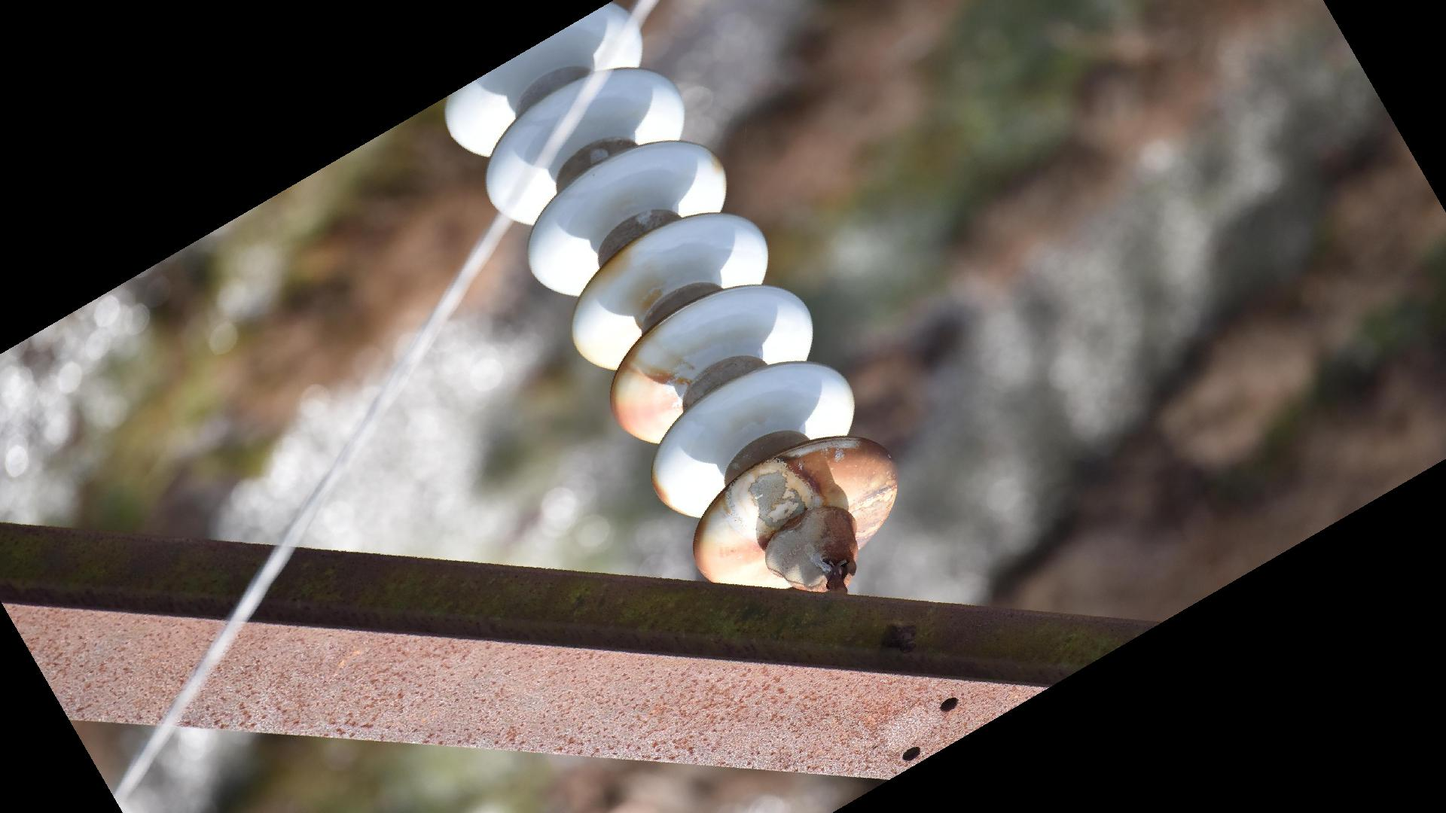insulator: (438, 1, 906, 598)
insulator_flashover: (725, 455, 821, 537)
